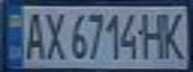1: (103, 10, 121, 60)
4: (118, 9, 142, 60)
6: (66, 9, 90, 60)
7: (84, 9, 106, 60)
A: (18, 8, 48, 61)
H: (139, 8, 169, 60)
K: (160, 8, 190, 61)
X: (42, 8, 69, 61)
